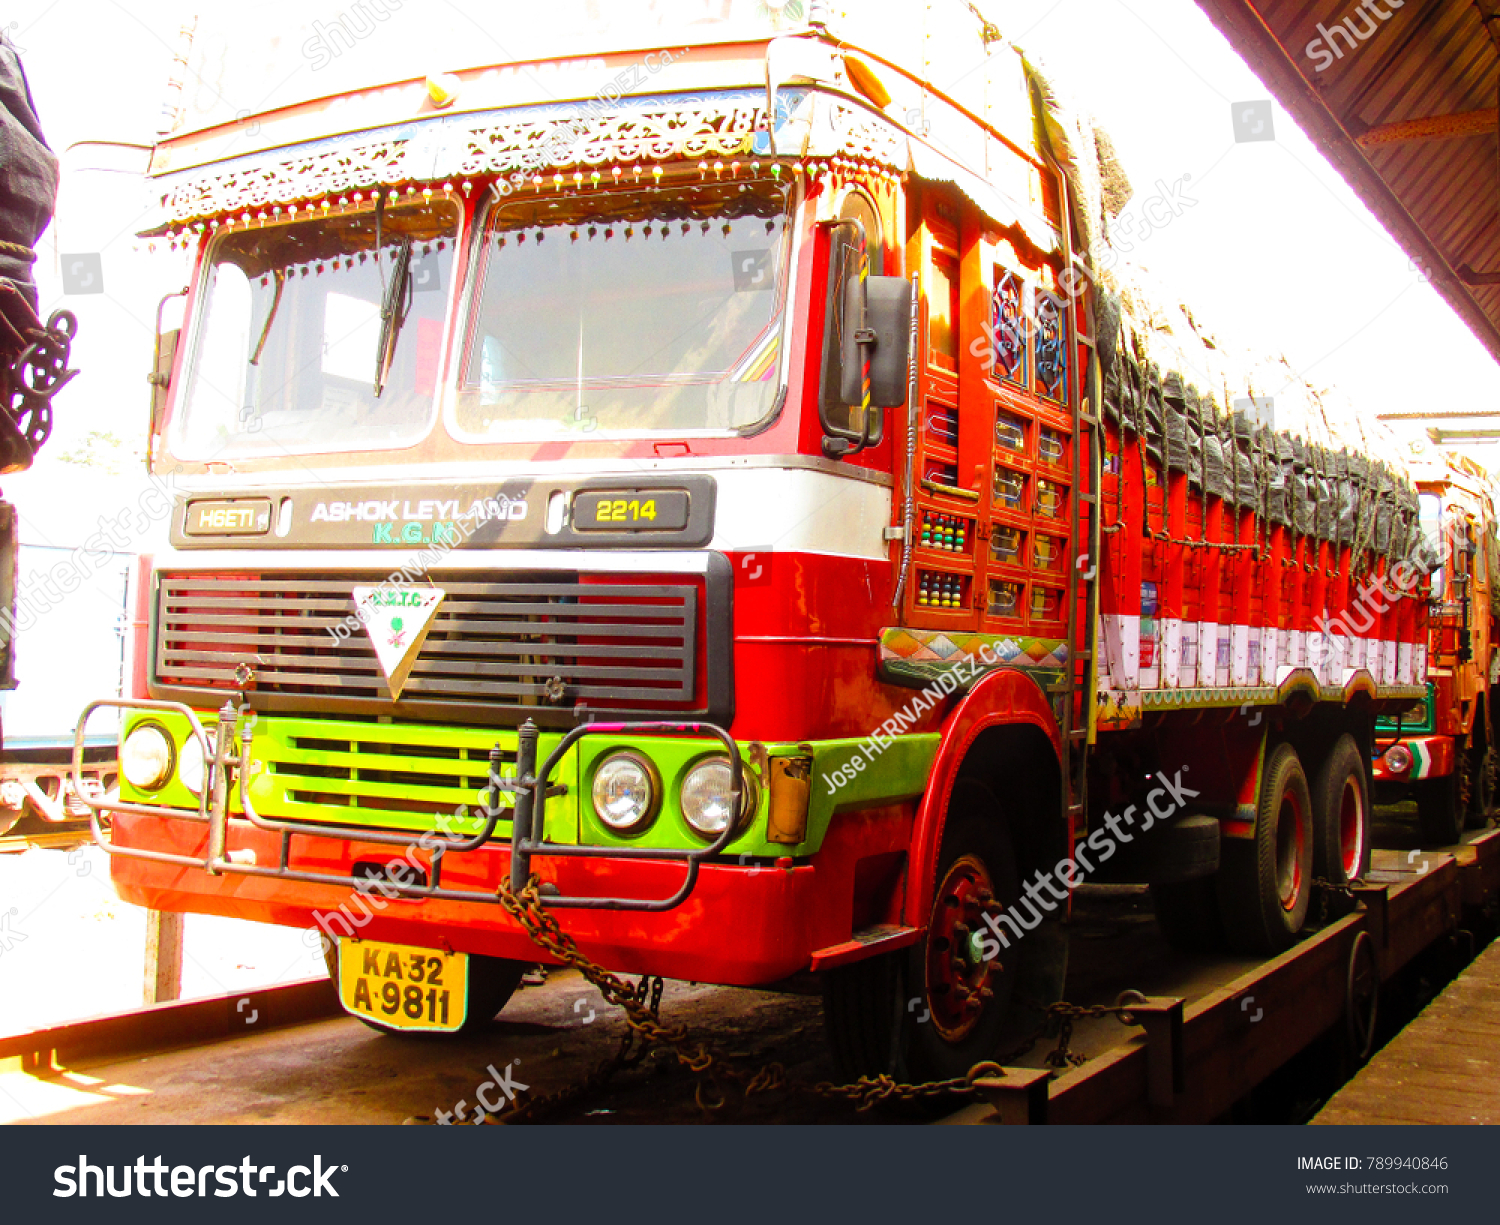doublelinenumberplate: (331, 936, 471, 1040)
